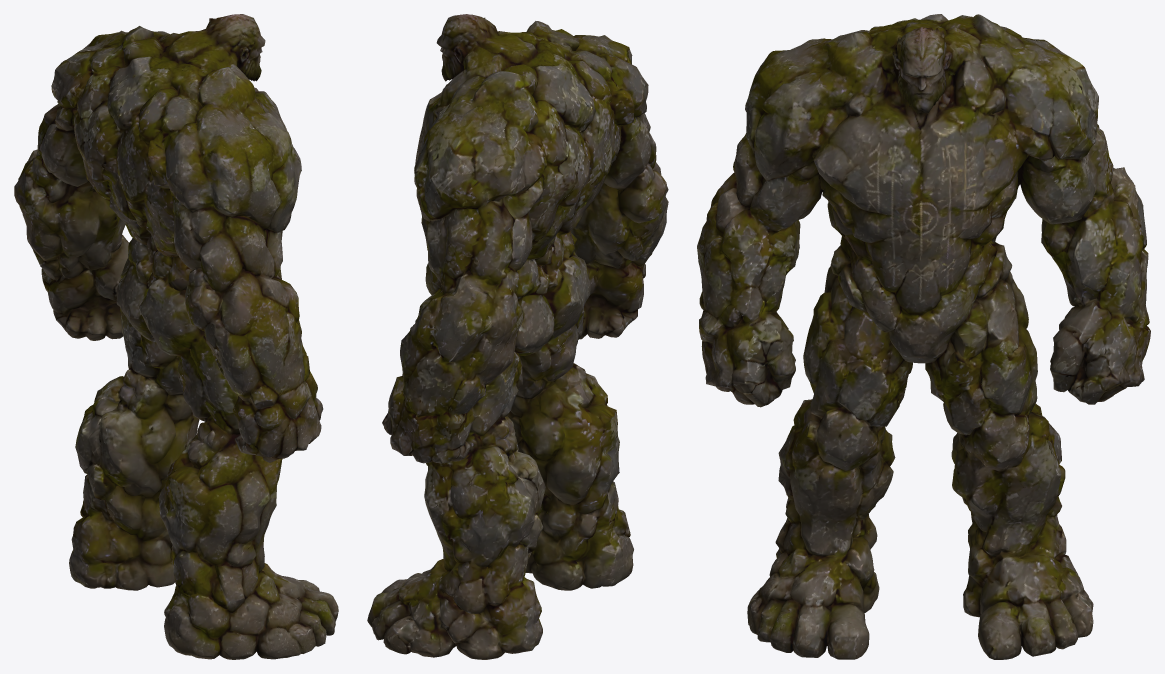
File: StoneGiant-tripo.glb
3 views of the same model, side by side, from view 1: azimuth 30°, elevation 25°; view 2: azimuth 150°, elevation 25°; view 3: azimuth 270°, elevation 25° (orthographic). The views are drawn at different scales.
Visible parts, largest first — view 1: tripo_node_b5cd07b0-3fc9-45d2-a66c-38d27b6e7757; view 2: tripo_node_b5cd07b0-3fc9-45d2-a66c-38d27b6e7757; view 3: tripo_node_b5cd07b0-3fc9-45d2-a66c-38d27b6e7757.
Part boxes in pixels (left/top/right/bottom): tripo_node_b5cd07b0-3fc9-45d2-a66c-38d27b6e7757: left=14, top=14, right=338, bottom=659; tripo_node_b5cd07b0-3fc9-45d2-a66c-38d27b6e7757: left=367, top=14, right=668, bottom=659; tripo_node_b5cd07b0-3fc9-45d2-a66c-38d27b6e7757: left=697, top=14, right=1150, bottom=659.
Bounding box in the file's own units: 0.3275 × 1 × 0.6792.
1 material, 1 textured.
